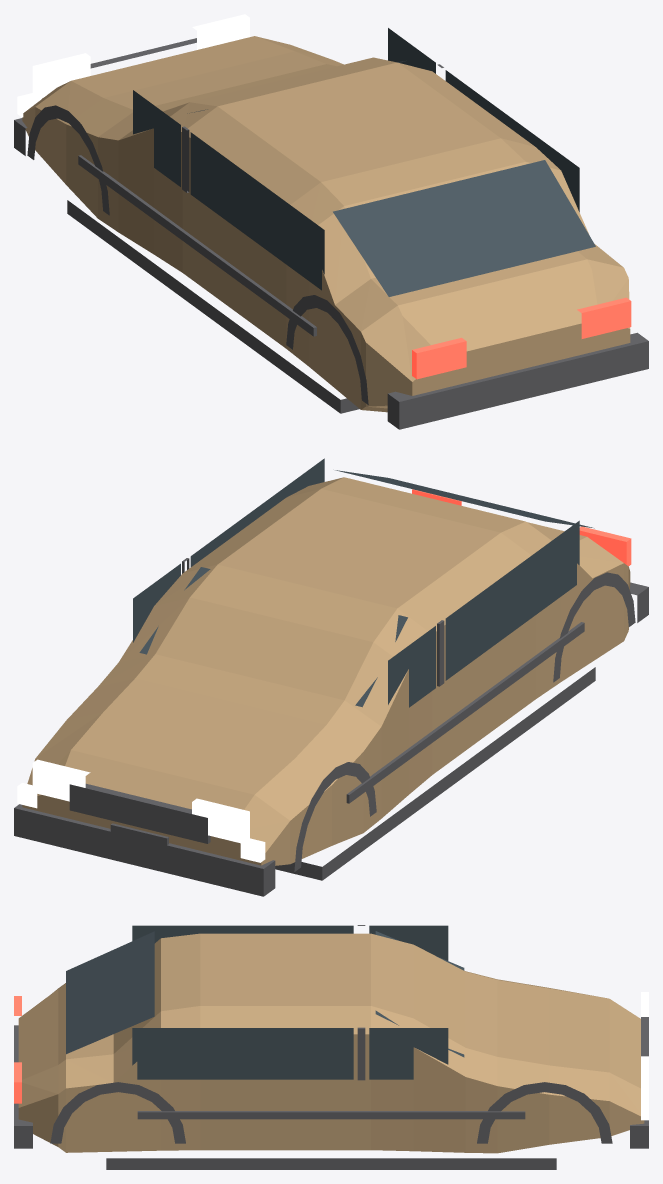
Rendered from zastava_hatch.glb.
3 renders of one model, top to bottom at view 1: azimuth 30°, elevation 25°; view 2: azimuth 150°, elevation 25°; view 3: azimuth 270°, elevation 25°, orthographic. The views are drawn at different scales.
Visible parts, largest first — view 1: car_body; view 2: car_body; view 3: car_body.
Part boxes in pixels (x1,y1,x2,y2): car_body: (14, 14, 648, 429); car_body: (14, 458, 648, 896); car_body: (14, 925, 648, 1169).
Bounding box in the file's own units: 1.63 × 1.04 × 4.02.
